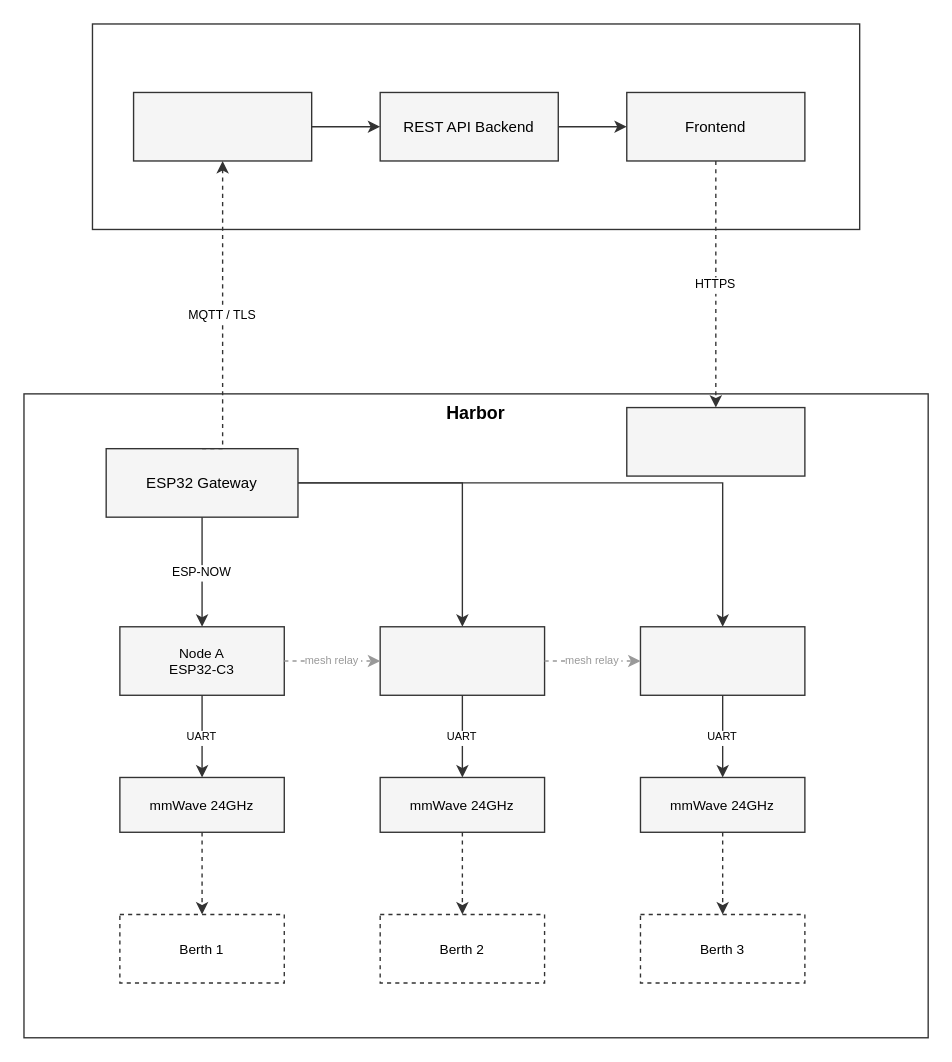
This 952x1062 diagram has some shape labels left out. Each missing label, with the box of its shape:
Harbor Master: (625, 406, 805, 476)
MQTT Broker: (132, 91, 312, 161)
Node B ESP32-C3: (379, 625, 545, 695)
Node C ESP32-C3: (639, 625, 805, 695)
Server: (91, 23, 860, 229)
